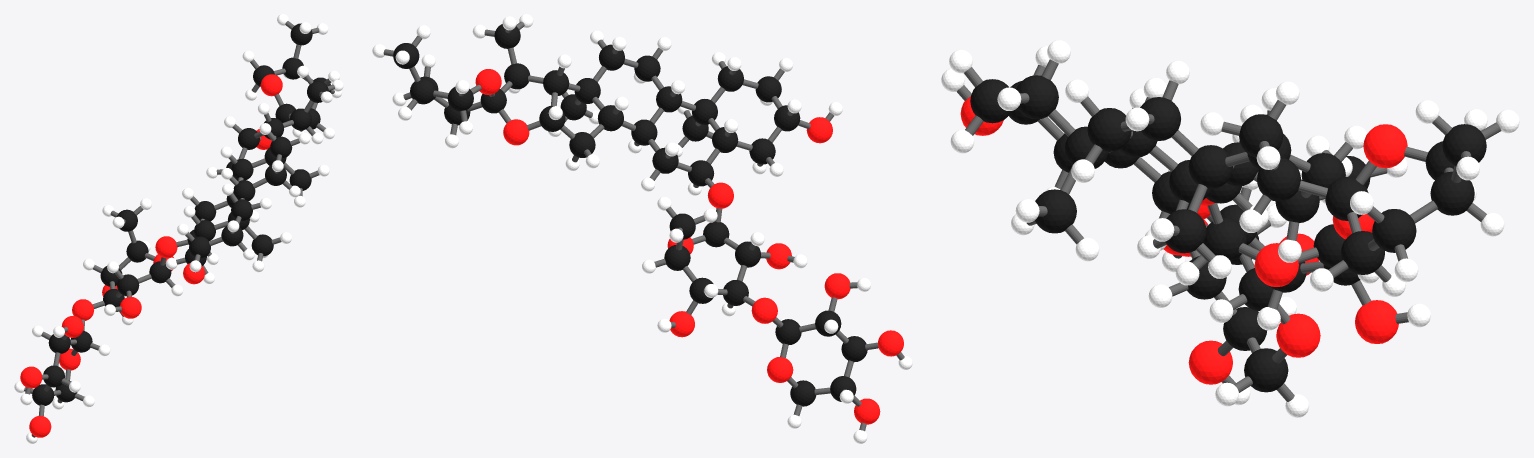
The model's file is molecule.glb.
The picture shows the model from 3 angles, left to right: view 1: azimuth 30°, elevation 25°; view 2: azimuth 150°, elevation 25°; view 3: azimuth 270°, elevation 25°; orthographic projection. The views are drawn at different scales.
Visible parts, largest first — view 1: geometry_5, geometry_27, geometry_14, geometry_29, geometry_33, geometry_17, geometry_41, geometry_22, geometry_36, geometry_44, geometry_28, geometry_48 (+13 smaller); view 2: geometry_29, geometry_7, geometry_14, geometry_22, geometry_24, geometry_31, geometry_37, geometry_27, geometry_5, geometry_28, geometry_1, geometry_23 (+8 smaller); view 3: geometry_5, geometry_20, geometry_24, geometry_45, geometry_27, geometry_2, geometry_43, geometry_25, geometry_1, geometry_39, geometry_41, geometry_48 (+22 smaller).
Boxes of the visible parts, bbox=[...] form: geometry_5: bbox=[260, 74, 282, 96]; geometry_27: bbox=[29, 415, 51, 437]; geometry_14: bbox=[155, 236, 177, 258]; geometry_29: bbox=[20, 366, 42, 388]; geometry_33: bbox=[120, 296, 141, 318]; geometry_17: bbox=[126, 240, 148, 262]; geometry_41: bbox=[251, 234, 273, 256]; geometry_22: bbox=[72, 299, 93, 320]; geometry_36: bbox=[189, 236, 210, 258]; geometry_44: bbox=[270, 136, 292, 158]; geometry_28: bbox=[43, 365, 64, 387]; geometry_48: bbox=[290, 108, 311, 130]; geometry_29: bbox=[878, 330, 903, 356]; geometry_7: bbox=[503, 119, 529, 145]; geometry_14: bbox=[707, 182, 733, 208]; geometry_22: bbox=[751, 297, 777, 323]; geometry_24: bbox=[767, 357, 793, 382]; geometry_31: bbox=[824, 273, 850, 299]; geometry_37: bbox=[806, 117, 832, 143]; geometry_27: bbox=[854, 398, 880, 424]; geometry_5: bbox=[475, 69, 501, 94]; geometry_28: bbox=[841, 336, 867, 362]; geometry_1: bbox=[410, 78, 435, 104]; geometry_23: bbox=[775, 319, 801, 344]; geometry_5: bbox=[1363, 124, 1407, 168]; geometry_20: bbox=[1355, 300, 1398, 343]; geometry_24: bbox=[1276, 313, 1320, 357]; geometry_45: bbox=[1188, 145, 1232, 188]; geometry_27: bbox=[1188, 340, 1232, 384]; geometry_2: bbox=[1372, 209, 1416, 252]; geometry_43: bbox=[1087, 108, 1131, 151]; geometry_25: bbox=[1244, 348, 1288, 392]; geometry_1: bbox=[1430, 171, 1474, 215]; geometry_39: bbox=[1016, 75, 1058, 119]; geometry_41: bbox=[1035, 189, 1076, 233]; geometry_48: bbox=[1257, 157, 1301, 201].
Size of the model in its own units: 0.257 by 0.199 by 0.1694.
